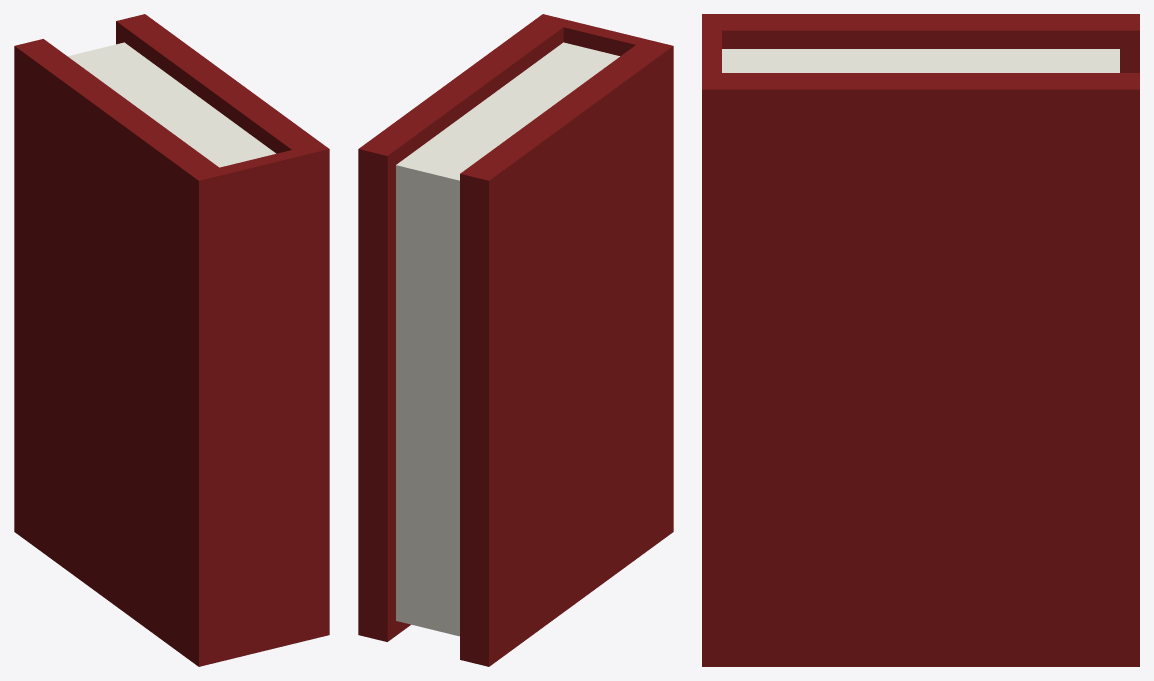
File: Book_Red_Dark.fbx
3 renders of one model, left to right at view 1: azimuth 30°, elevation 25°; view 2: azimuth 150°, elevation 25°; view 3: azimuth 270°, elevation 25°, orthographic. The views are drawn at different scales.
Visible parts, largest first — view 1: pCube10; view 2: pCube10; view 3: pCube10.
Part boxes in pixels (x1=…): pCube10: x1=14, y1=14, x2=329, y2=666; pCube10: x1=358, y1=14, x2=673, y2=666; pCube10: x1=702, y1=14, x2=1139, y2=666.
Bounding box in the file's own units: 9 × 32 × 22.
